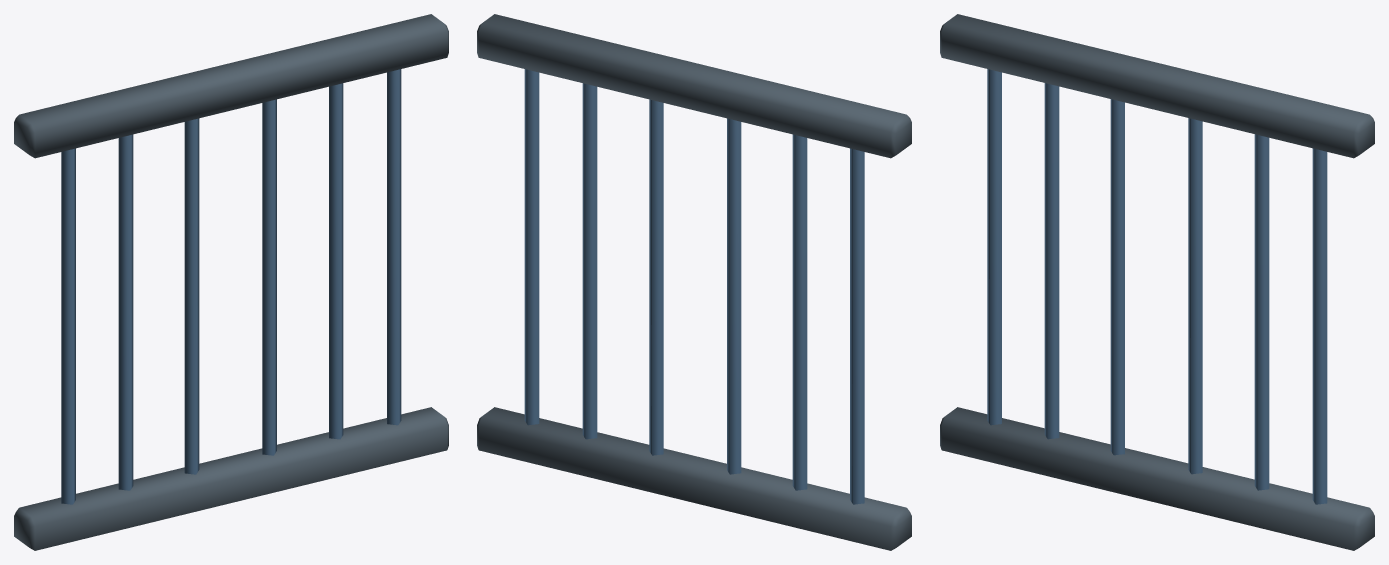
Rendered from lattice2.fbx.
3 renders of one model, left to right at view 1: azimuth 30°, elevation 25°; view 2: azimuth 150°, elevation 25°; view 3: azimuth 330°, elevation 25°, orthographic.
Parts seen in each view (by area): view 1: lattice2; view 2: lattice2; view 3: lattice2.
Part boxes in pixels (<box>): lattice2: <box>14,14,448,550</box>; lattice2: <box>477,14,911,550</box>; lattice2: <box>940,14,1374,550</box>.
Size of the model in its own units: 200 by 193 by 15.96.
1 material, 1 textured.
